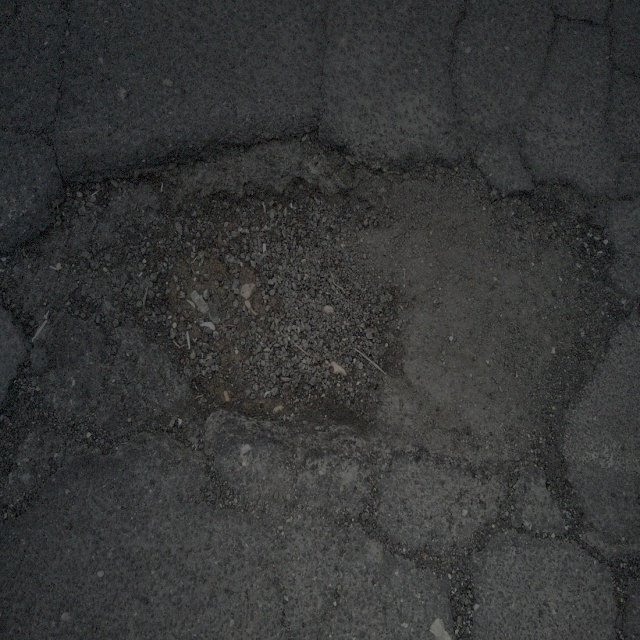pothole: (2, 107, 624, 500)
